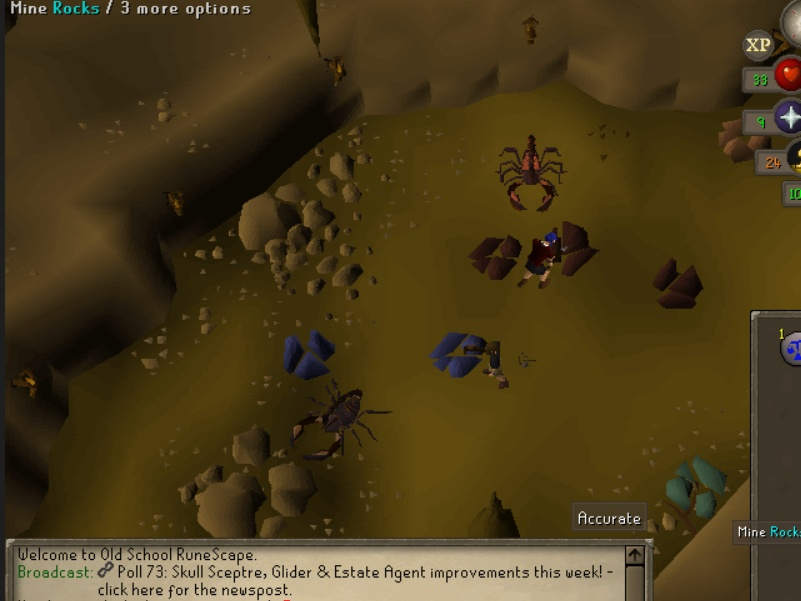adamant: (663, 453, 729, 521)
copper: (715, 111, 777, 169)
iron: (543, 220, 605, 280), (466, 229, 526, 285), (650, 255, 710, 311)
mithril: (271, 323, 343, 385), (428, 330, 492, 383)
